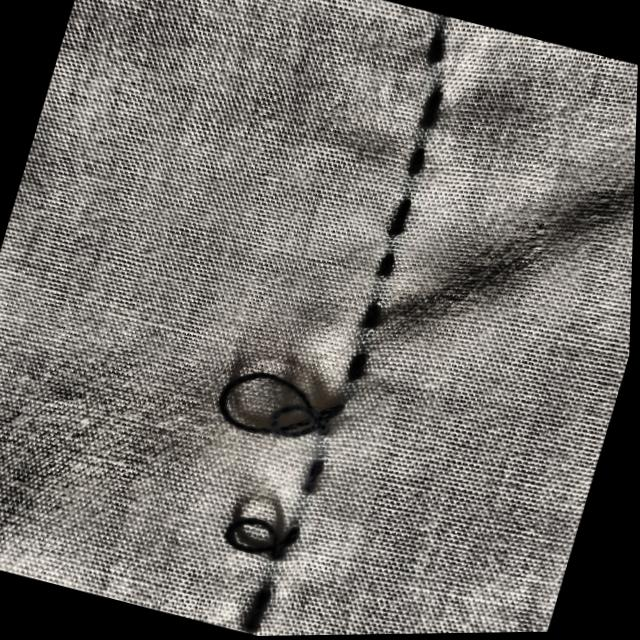Stitch: (111, 442, 405, 615), (163, 330, 428, 493)
